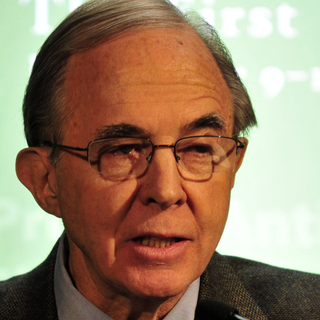eye: (100, 140, 146, 162), (179, 139, 222, 162)
